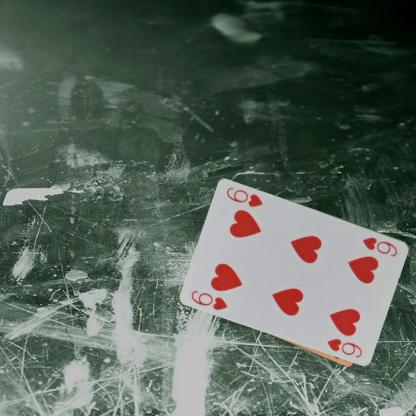6h: (188, 287, 229, 312), (360, 234, 399, 258)
